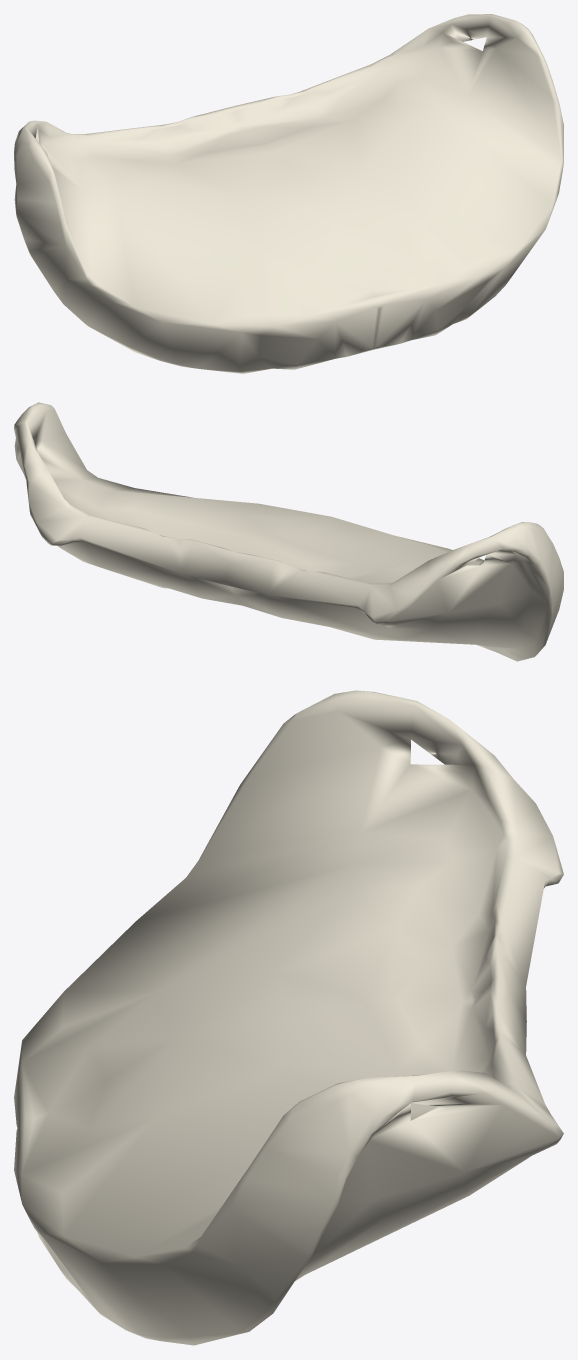
3 views of the same model, one above another, from view 1: azimuth 30°, elevation 25°; view 2: azimuth 150°, elevation 25°; view 3: azimuth 270°, elevation 25° (orthographic). The views are drawn at different scales.
Parts seen in each view (by area): view 1: ZA_0d5f8ce685f8e476; view 2: ZA_0d5f8ce685f8e476; view 3: ZA_0d5f8ce685f8e476.
Boxes of the visible parts, x1,y1,x2,y2 form: ZA_0d5f8ce685f8e476: (14, 14, 563, 373); ZA_0d5f8ce685f8e476: (14, 402, 563, 661); ZA_0d5f8ce685f8e476: (14, 690, 563, 1345).
Size of the model in its own units: 0.0305 by 0.0113 by 0.0166.
